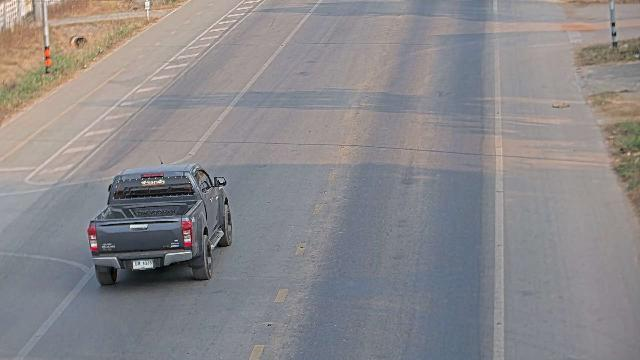pickup-truck: (86, 162, 233, 286)
